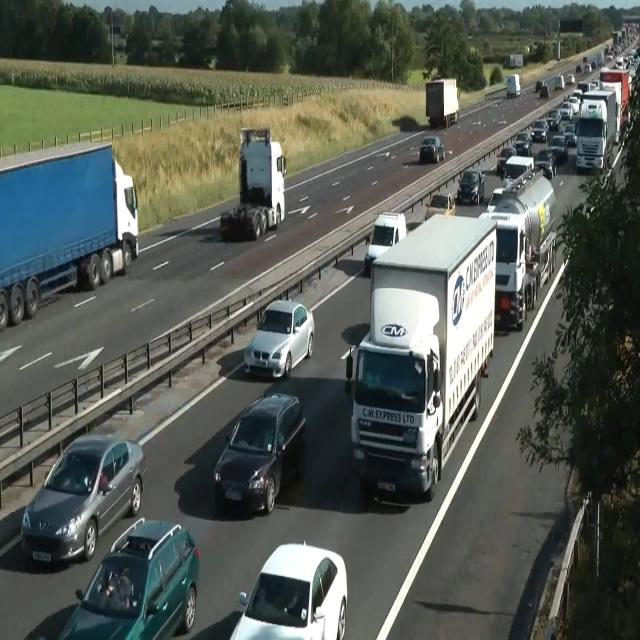bus: (58, 517, 200, 639), (229, 540, 347, 639), (243, 298, 314, 380), (363, 210, 407, 276), (456, 168, 484, 205), (424, 192, 456, 220), (502, 156, 534, 182), (418, 135, 444, 164), (534, 148, 556, 180), (496, 147, 516, 177), (548, 134, 568, 162), (512, 132, 532, 156), (486, 188, 504, 212), (530, 119, 548, 142), (544, 108, 561, 130), (563, 122, 577, 146), (559, 101, 573, 122), (568, 95, 580, 116), (554, 74, 564, 90), (539, 84, 549, 98), (535, 79, 543, 93), (565, 73, 575, 84), (584, 63, 592, 73), (576, 64, 582, 72)
car: (478, 165, 556, 331)
jeep: (20, 432, 147, 566), (214, 391, 306, 515)
minibus: (345, 212, 497, 500), (0, 139, 138, 329), (220, 127, 286, 240), (575, 88, 619, 173), (599, 67, 631, 142), (425, 77, 459, 128), (506, 73, 520, 98), (503, 52, 523, 68)
